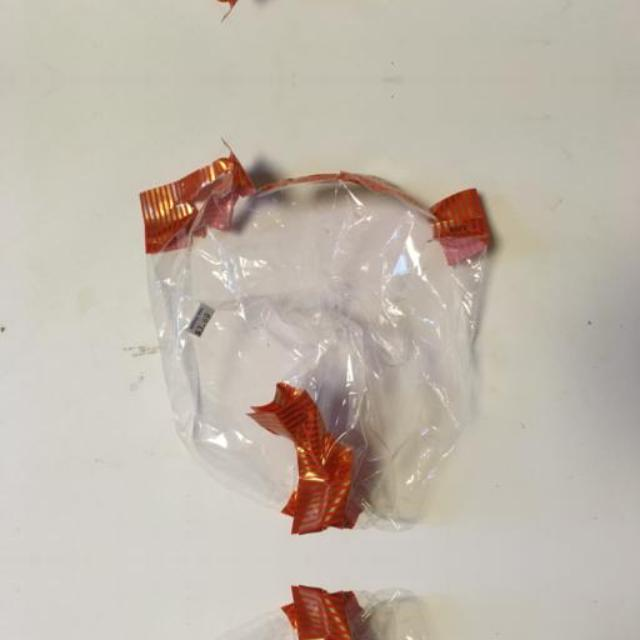paper: (118, 128, 530, 536), (118, 584, 530, 640), (118, 0, 530, 32)
